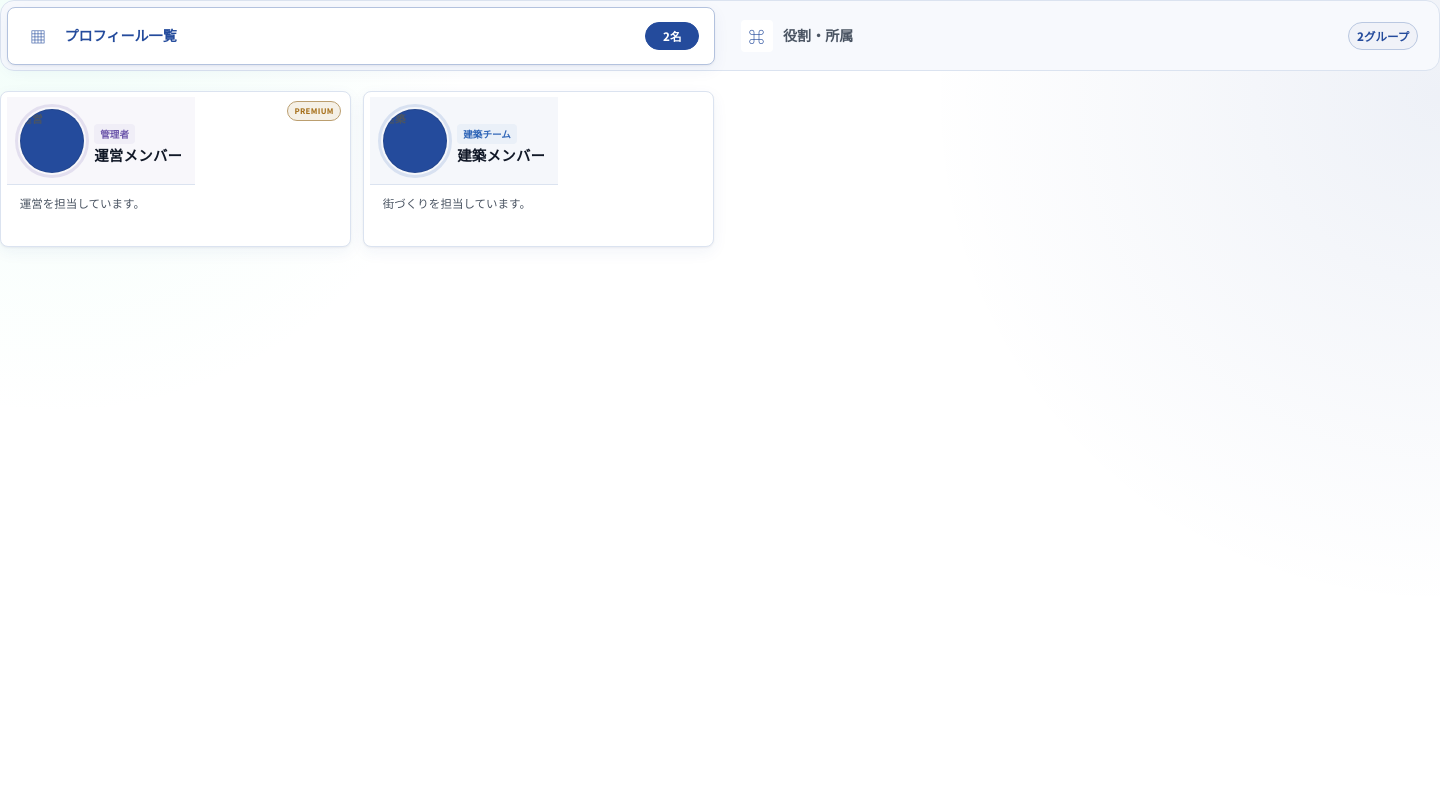
OrganizationDirectory › switches to the roles and teams tab
The width and height of the screenshot is (1440, 810).
Click the tab "⌘ 役割・所属 2グループ" at (757, 36), box [725,7,1433,65]
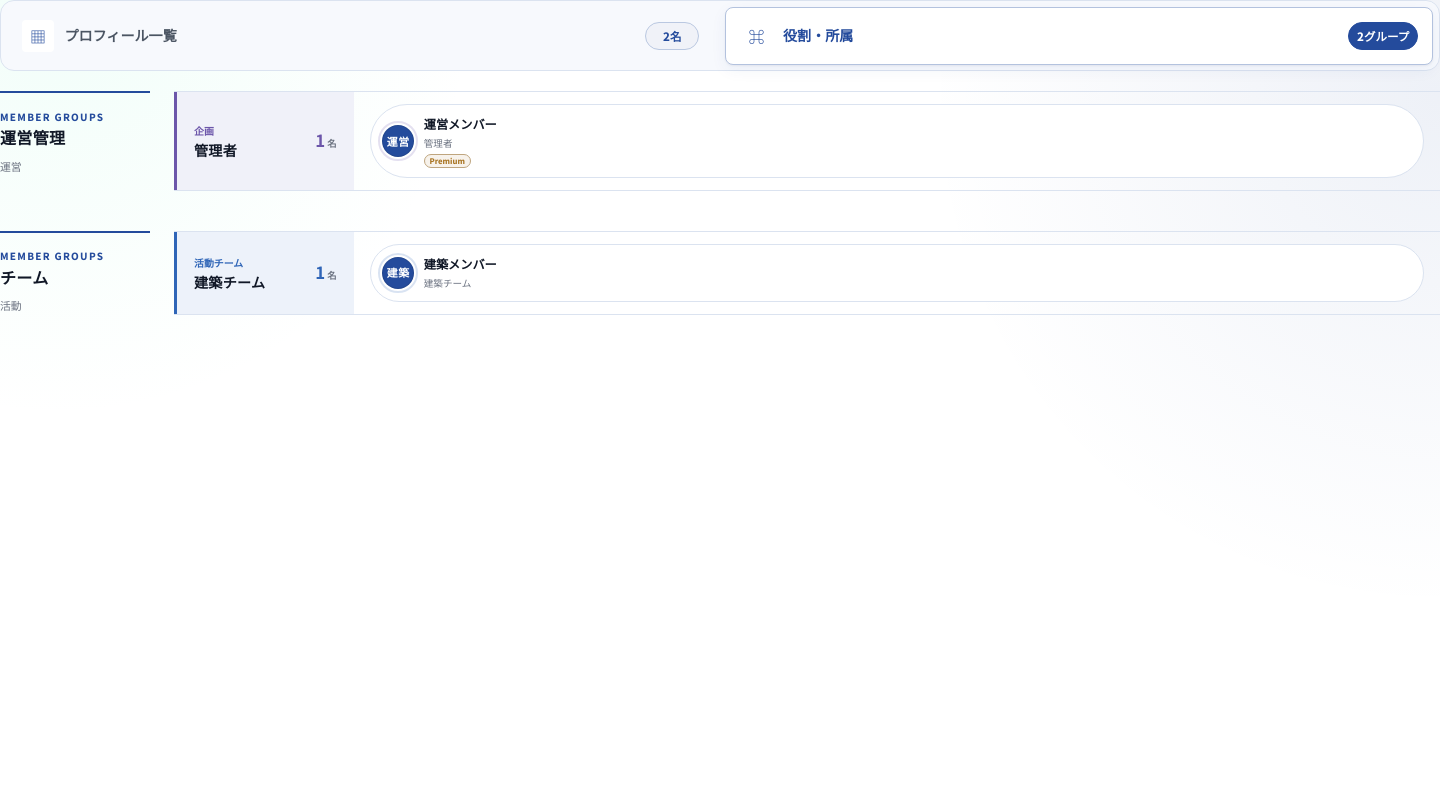
Check: the element "運営管理" is shown, box [0,91,1439,191]
Check: the element "チーム" is shown, box [0,231,1439,315]
Check: the heading "建築チーム" is shown, box [194,273,265,292]
Click the button "建築 建築メンバー 建築チーム" at (398, 273), box [370,244,1424,302]
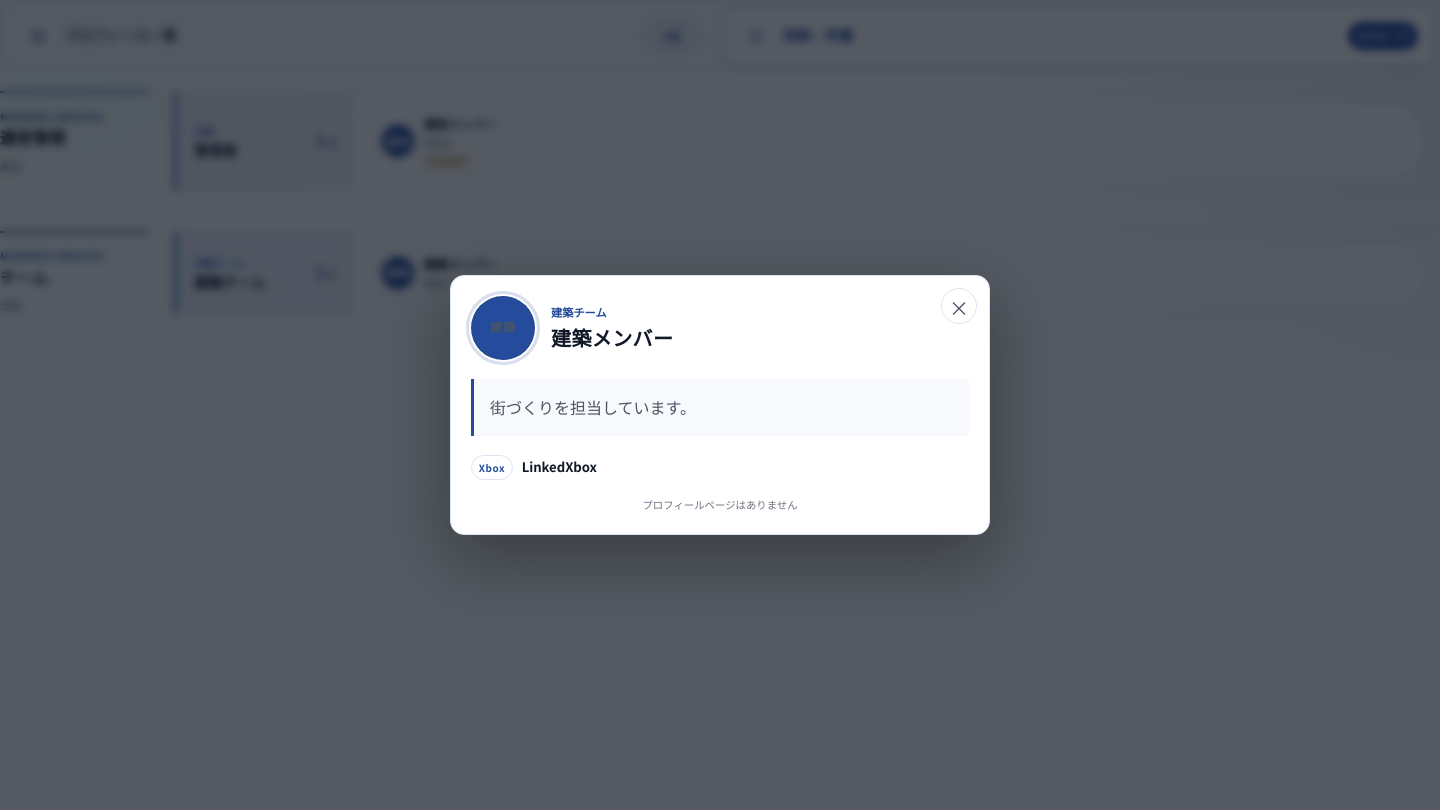
Check: the dialog "建築メンバー" is shown, box [450,275,990,535]
